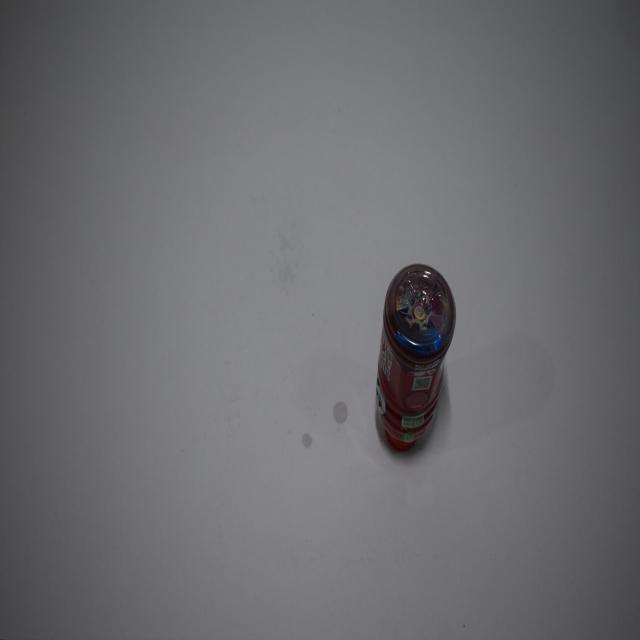bottle: (374, 256, 459, 475)
